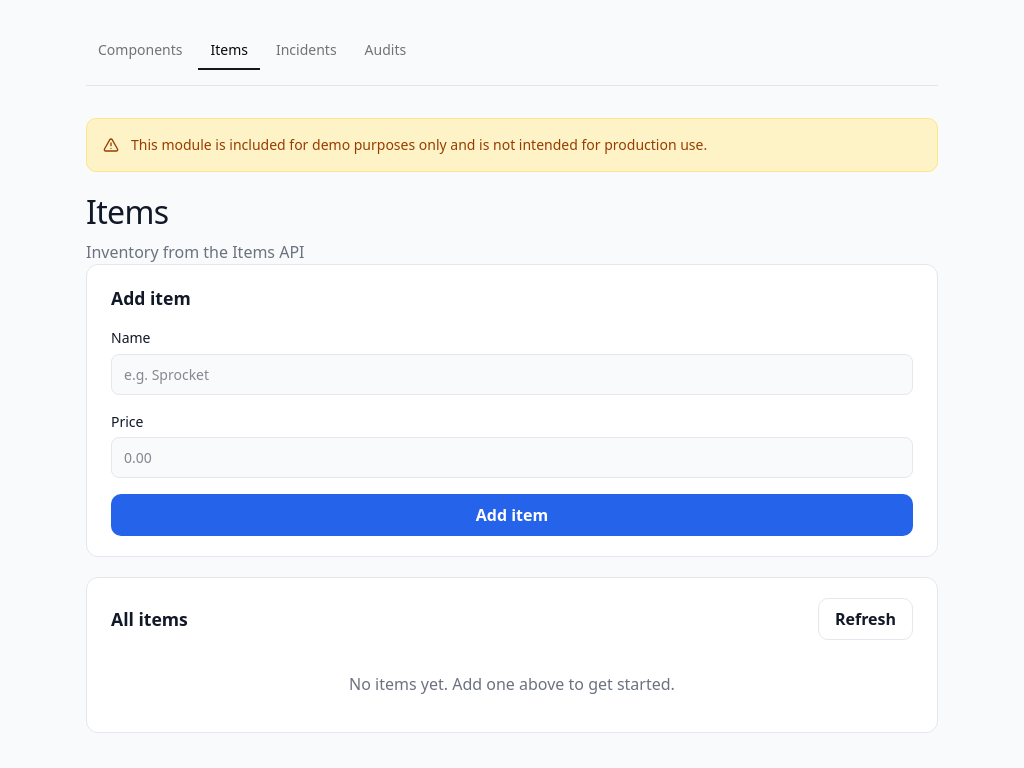
Test case: App › shows create failure alert and keeps name when createItem rejects
This screenshot has width=1024, height=768.
Expected: the text "No items yet. Add one above to get started." is shown, x1=349 y1=673 x2=675 y2=695
Type "Widget" into the field labelled "Name" at (512, 374), box x1=111 y1=354 x2=913 y2=395
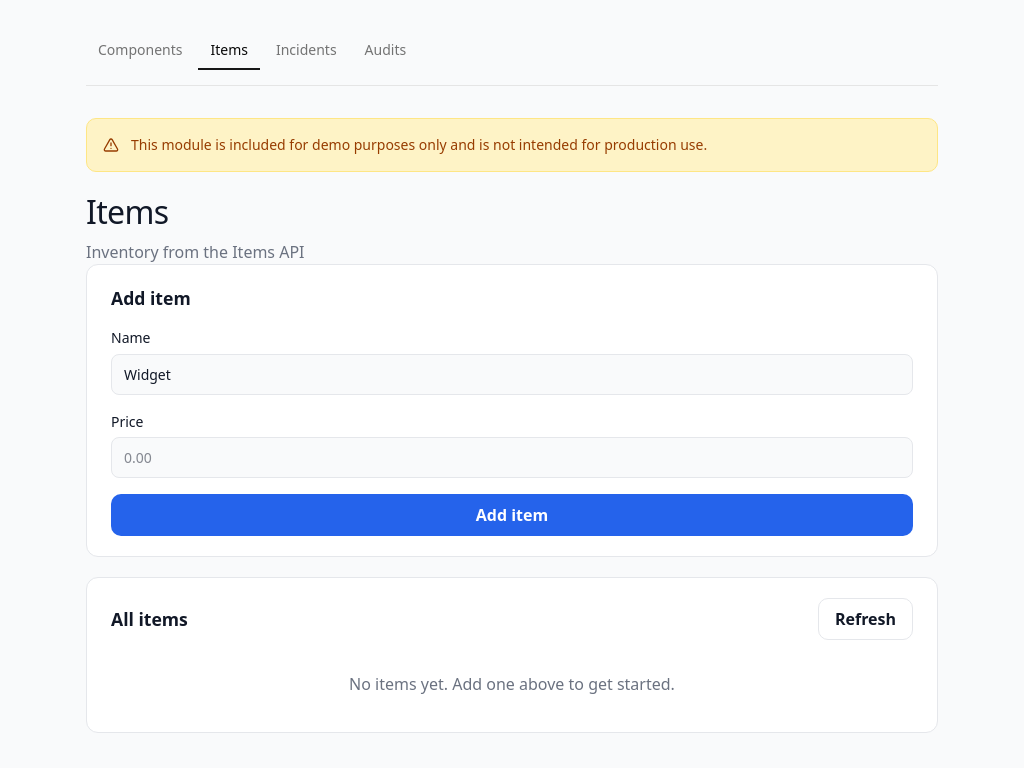
Type "9.99" into the number field labelled "Price" at (512, 458), box x1=111 y1=437 x2=913 y2=478
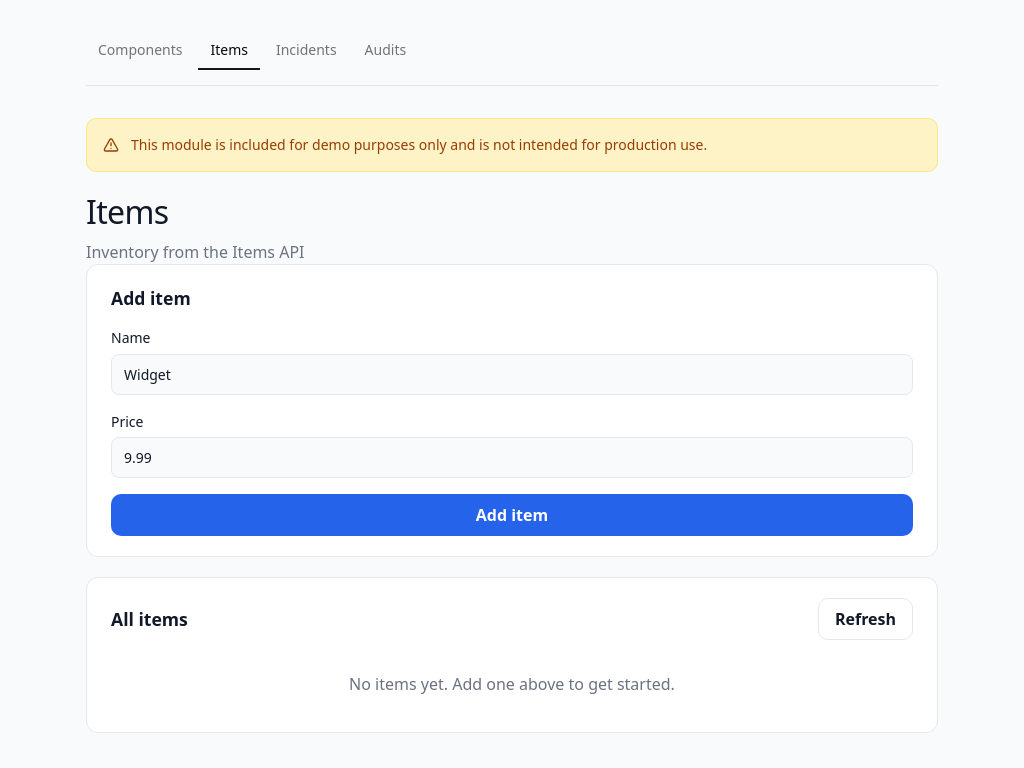
Click the button "Add item" at (512, 515), box x1=111 y1=494 x2=913 y2=536
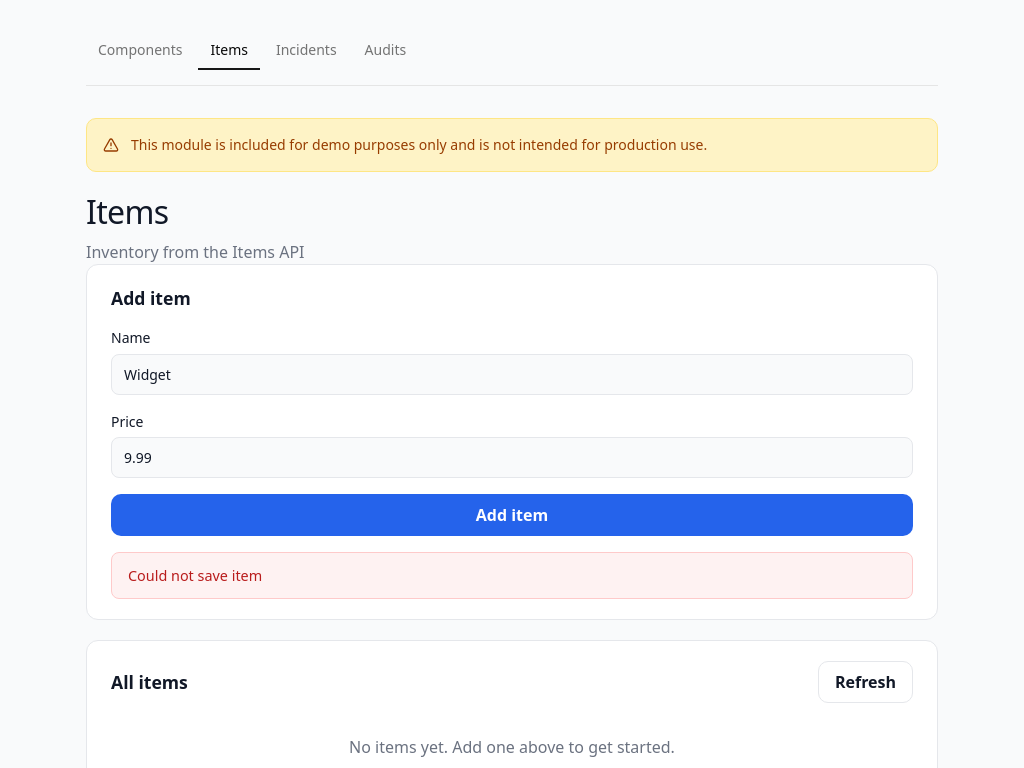
Now the message "Could not save item" is shown, box x1=111 y1=552 x2=913 y2=599
